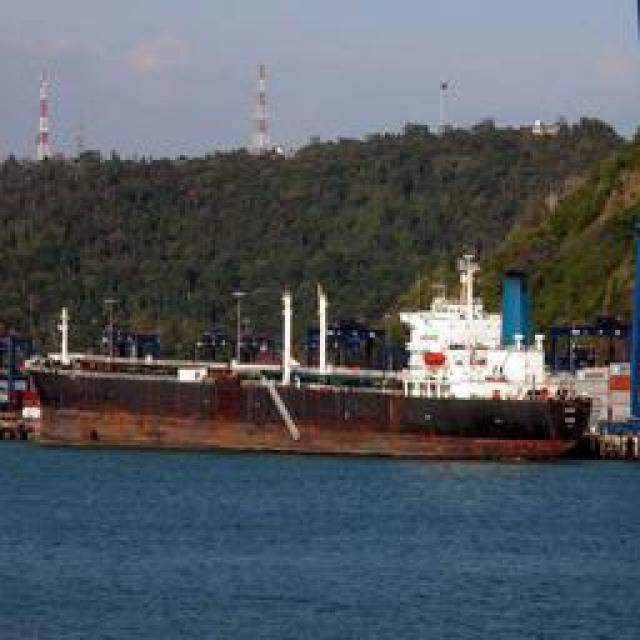Ship: (31, 347, 579, 445)
